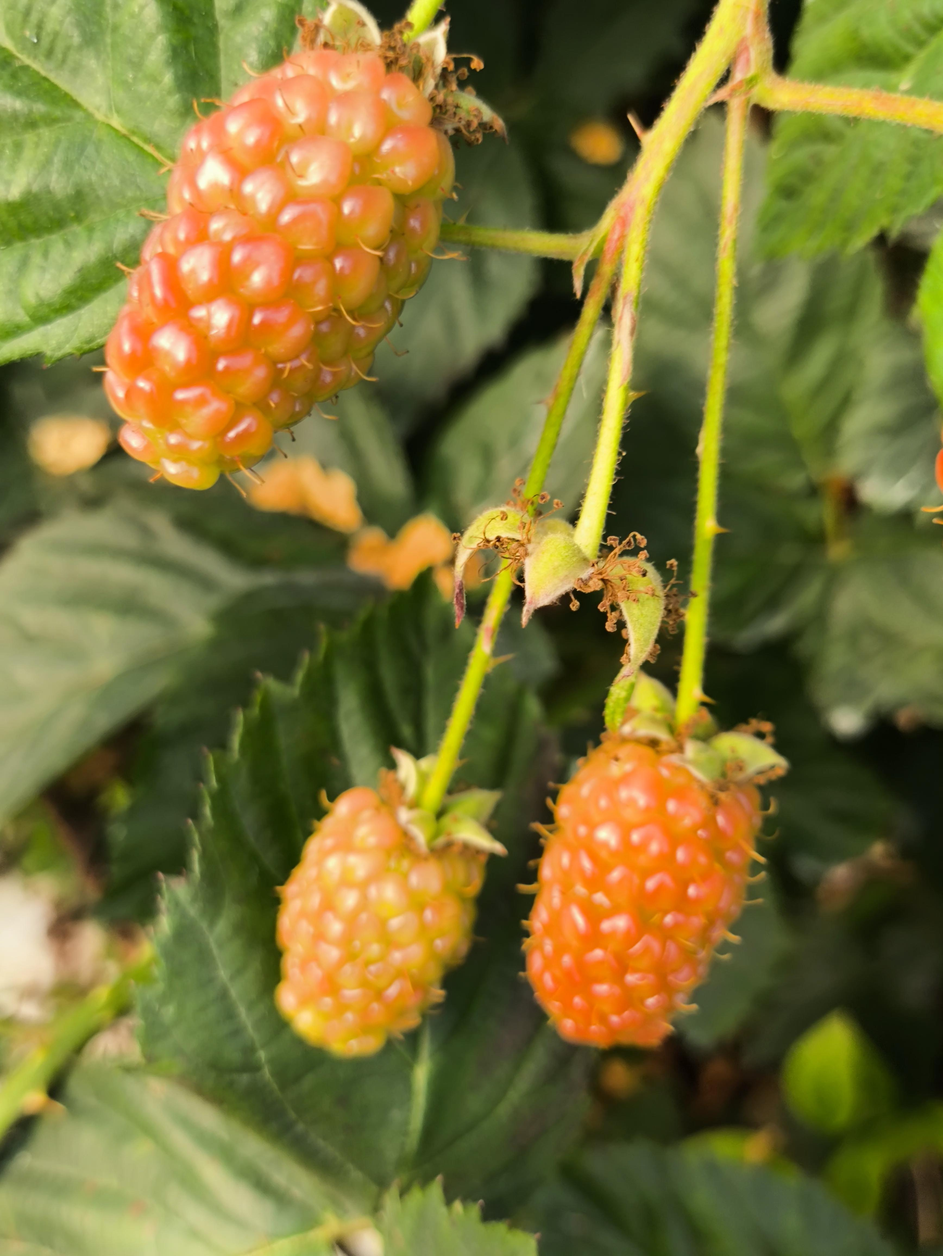naranja: (104, 14, 454, 490), (520, 733, 755, 1044), (275, 771, 487, 1057)
